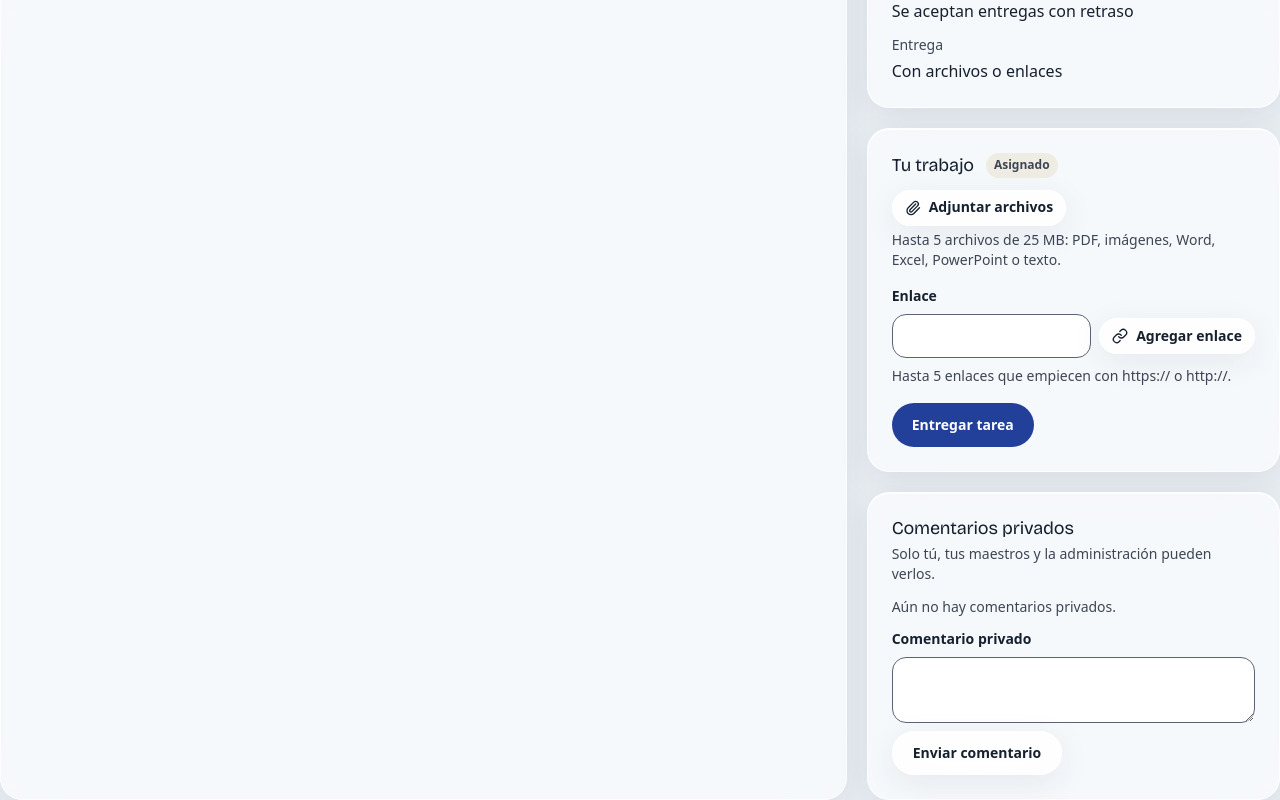
Test case: entrega vacía (PR-1D06) › PR-1D06: en una tarea que requiere adjuntos, entregar sin nada muestra el error del grupo y no pide nada
(page scrolled)
Click the button "Entregar tarea". click: (963, 425)
box: [892,403,1034,447]
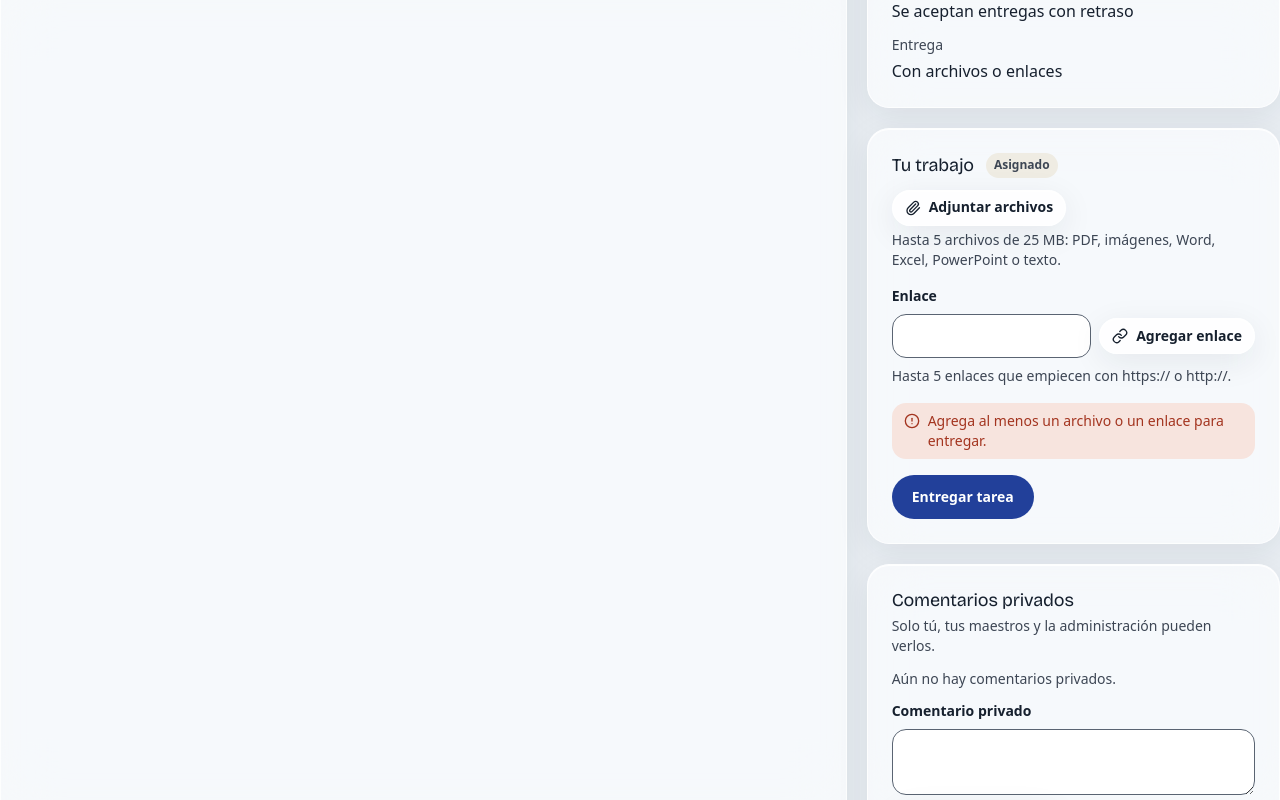
Now the text "Agrega al menos un archivo o un enlace para entregar." is shown, box [892,403,1255,459]
